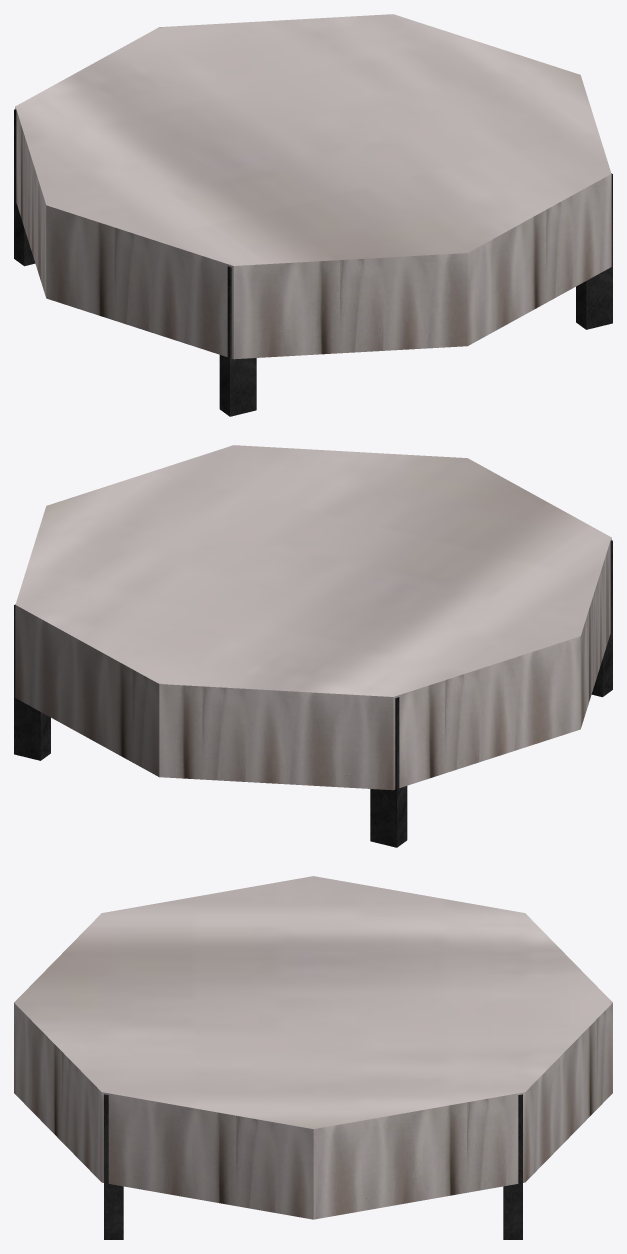
Rendered from mesaRestaurante.obj.
3 views of the same model, one above another, from view 1: azimuth 30°, elevation 25°; view 2: azimuth 150°, elevation 25°; view 3: azimuth 270°, elevation 25° (orthographic). The views are drawn at different scales.
Parts seen in each view (by area): view 1: pCylinder1, pCube2, pCube1, pCube4; view 2: pCylinder1, pCube4, pCube3, pCube2; view 3: pCylinder1, pCube1, pCube3.
Part boxes in pixels (x1,y1,x2,y2): pCylinder1: (15, 14, 611, 359); pCube2: (219, 266, 256, 416); pCube1: (576, 173, 612, 329); pCube4: (14, 109, 35, 266); pCylinder1: (15, 445, 611, 790); pCube4: (370, 697, 407, 847); pCube3: (14, 604, 50, 760); pCube2: (591, 540, 612, 697); pCylinder1: (14, 876, 612, 1219); pCube1: (104, 1094, 123, 1239); pCube3: (503, 1094, 522, 1239).
Size of the model in its own units: 1.5 by 0.405 by 1.5.
Materials: 2 (2 with a texture image).
